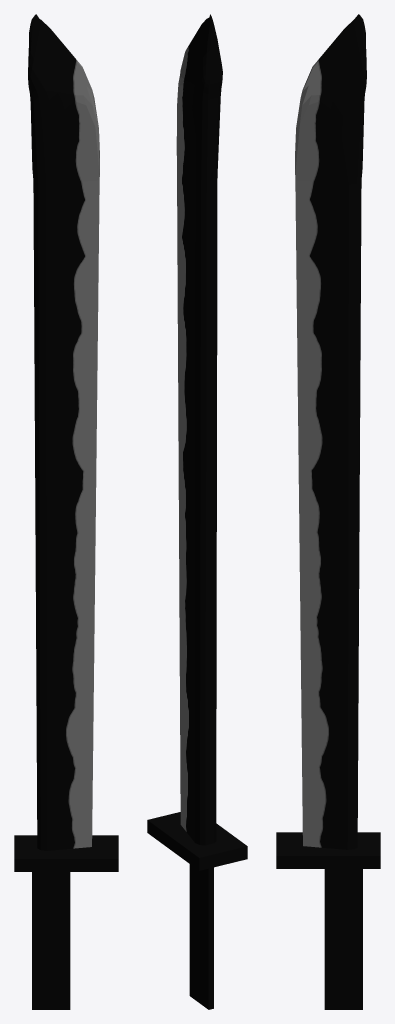
File: blade.glb
The picture shows the model from 3 angles, left to right: view 1: azimuth 90°, elevation 25°; view 2: azimuth 210°, elevation 25°; view 3: azimuth 270°, elevation 25°; orthographic projection.
Visible parts, largest first — view 1: 刃, 柄; view 2: 刃, 柄; view 3: 刃, 柄.
Part boxes in pixels (<box>): 刃: <box>28,14,99,850</box>; 柄: <box>14,835,118,1009</box>; 刃: <box>176,14,222,845</box>; 柄: <box>147,812,247,1009</box>; 刃: <box>295,14,366,849</box>; 柄: <box>276,832,380,1009</box>.
Size of the model in its own units: 0.2898 by 5.69 by 0.5401.
2 materials, 1 textured.
